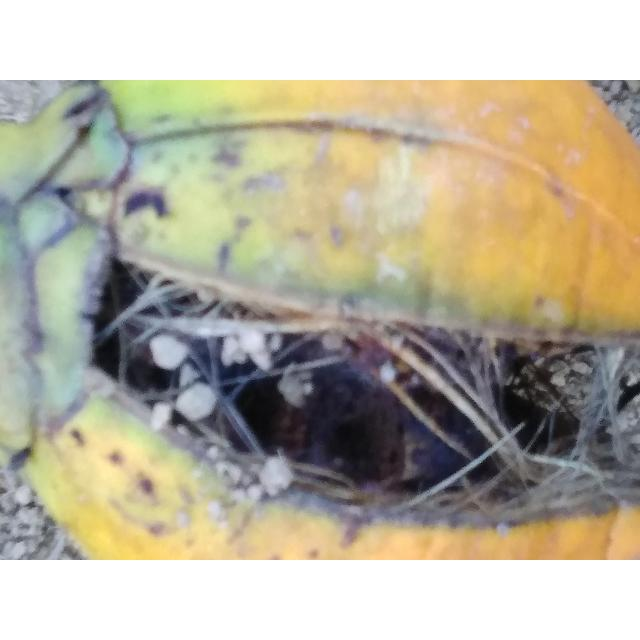damaged: (0, 80, 640, 560)
